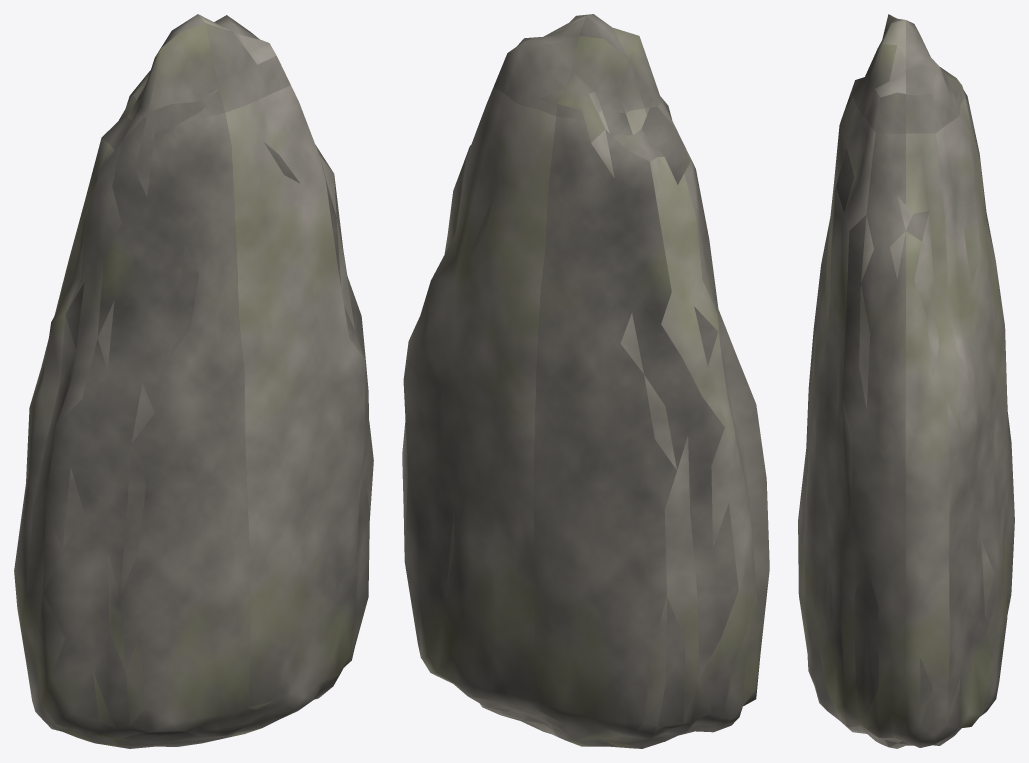
Rendered from Standing_Stone_2.gltf.
The picture shows the model from 3 angles, left to right: view 1: azimuth 30°, elevation 25°; view 2: azimuth 150°, elevation 25°; view 3: azimuth 270°, elevation 25°; orthographic projection. The views are drawn at different scales.
Visible parts, largest first — view 1: Standing_Stone_2; view 2: Standing_Stone_2; view 3: Standing_Stone_2.
Part boxes in pixels (x1=…): Standing_Stone_2: x1=14, y1=14, x2=373, y2=748; Standing_Stone_2: x1=402, y1=14, x2=769, y2=748; Standing_Stone_2: x1=798, y1=14, x2=1014, y2=748.
Size of the model in its own units: 1.6 by 3.14 by 0.8878.
1 material, 1 textured.
